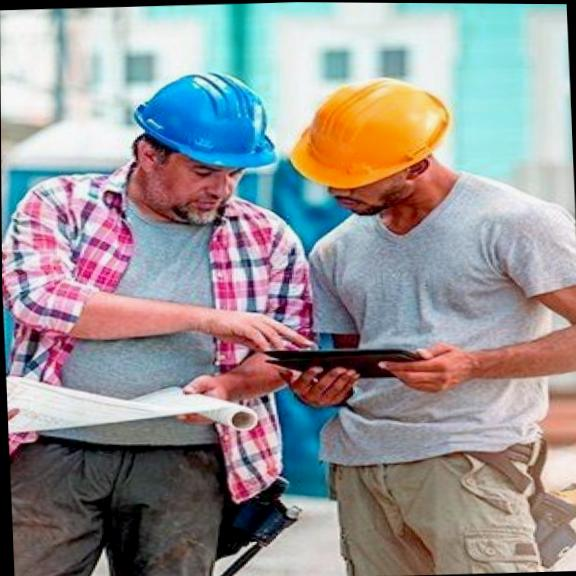no_safety_vest: (1, 162, 299, 471), (298, 183, 576, 466)
